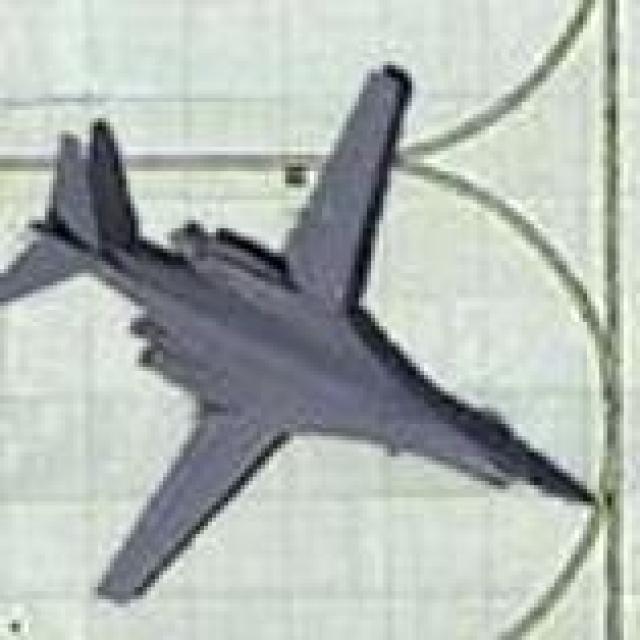B-1_TopDown: (0, 57, 599, 603)
